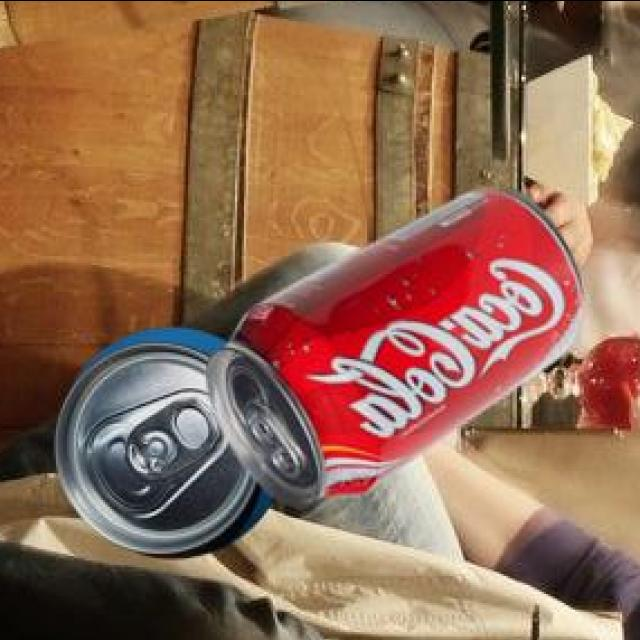logam: (209, 191, 585, 509), (59, 332, 279, 561)
